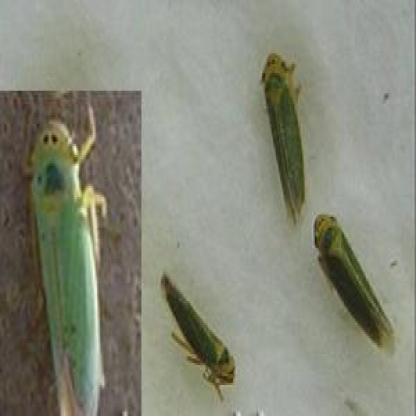Green-Leafhopper: (22, 99, 110, 416), (310, 204, 401, 360), (160, 266, 242, 400), (259, 51, 313, 226)
